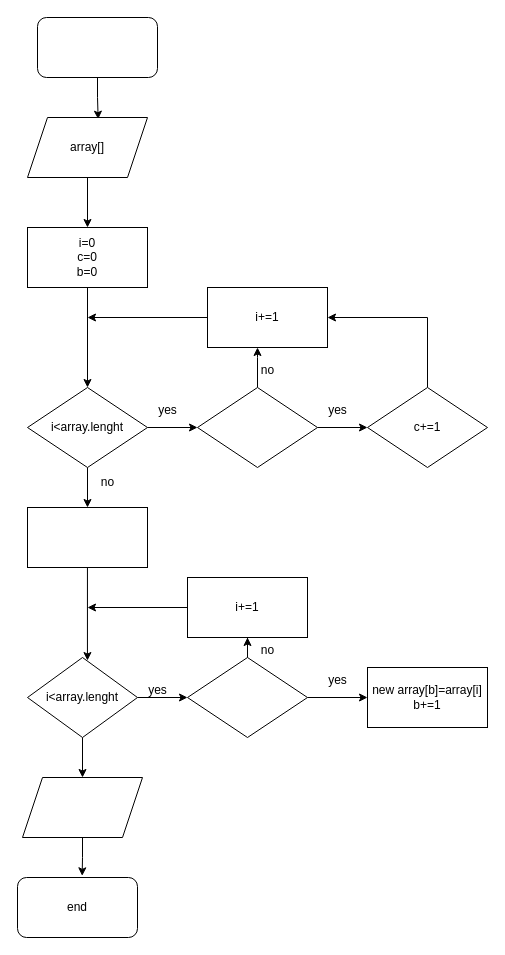
Image size: 505x955. Some labels were removed from this diagram. Each missing label, with the box of its shape:
array[i].enght <=3: (196, 386, 318, 468)
array[i].enght<=3: (186, 656, 308, 738)
new array[c]: (22, 776, 142, 838)
new array[c] i=0: (26, 506, 148, 568)
Start: (36, 16, 158, 78)
